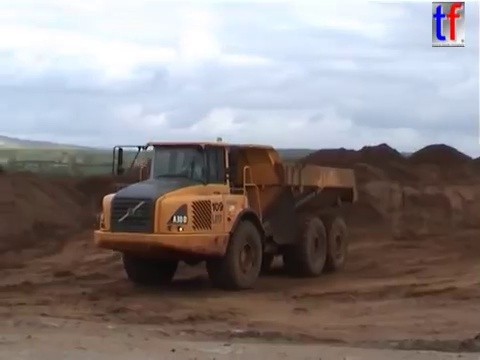truck: (90, 137, 360, 290)
